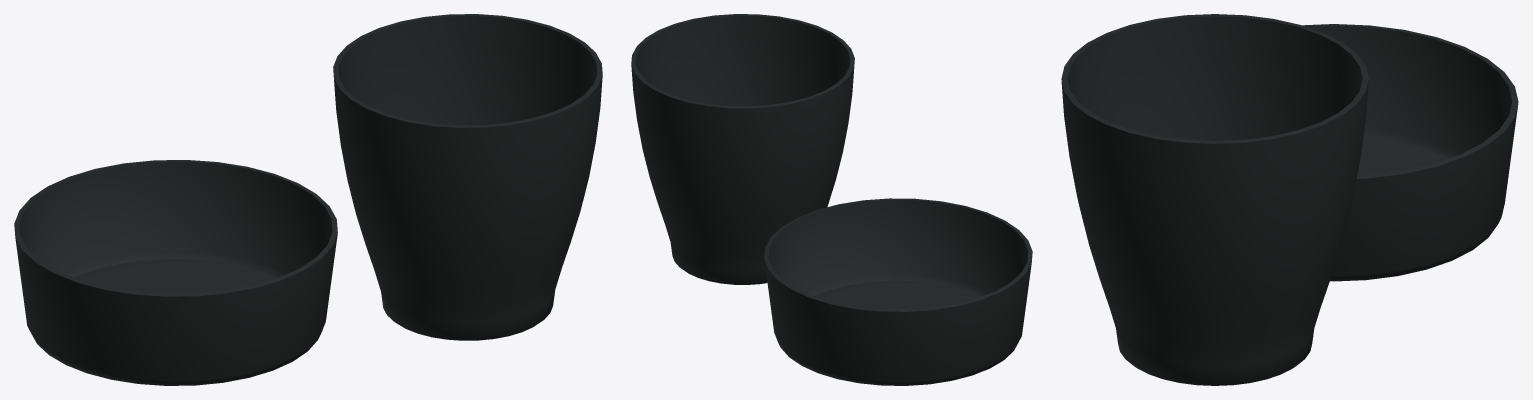
Rendered from PlasterCup.obj.
The picture shows the model from 3 angles, left to right: view 1: azimuth 30°, elevation 25°; view 2: azimuth 150°, elevation 25°; view 3: azimuth 270°, elevation 25°; orthographic projection. The views are drawn at different scales.
Parts seen in each view (by area): view 1: PlasterCup2, PlasterCup1; view 2: PlasterCup2, PlasterCup1; view 3: PlasterCup2, PlasterCup1.
Part boxes in pixels (<box>): PlasterCup2: <box>333,14,602,340</box>; PlasterCup1: <box>14,160,337,385</box>; PlasterCup2: <box>631,14,854,284</box>; PlasterCup1: <box>764,198,1032,385</box>; PlasterCup2: <box>1061,14,1368,385</box>; PlasterCup1: <box>1302,24,1518,281</box>.
Size of the model in its own units: 10.45 by 4.73 by 7.32.
